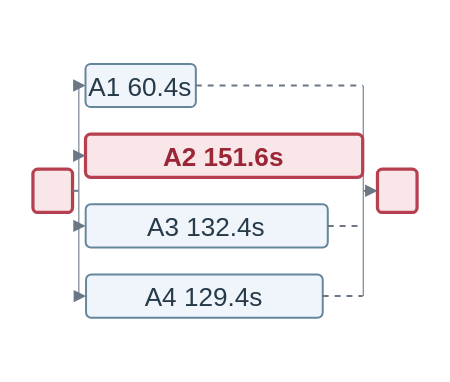
The diagram is 450 pixels wide and 382 high, and some of its shapes have lost their labels. Each missing label, with the centre of its shape:
A0: pixel 51 190
A5: pixel 396 190
